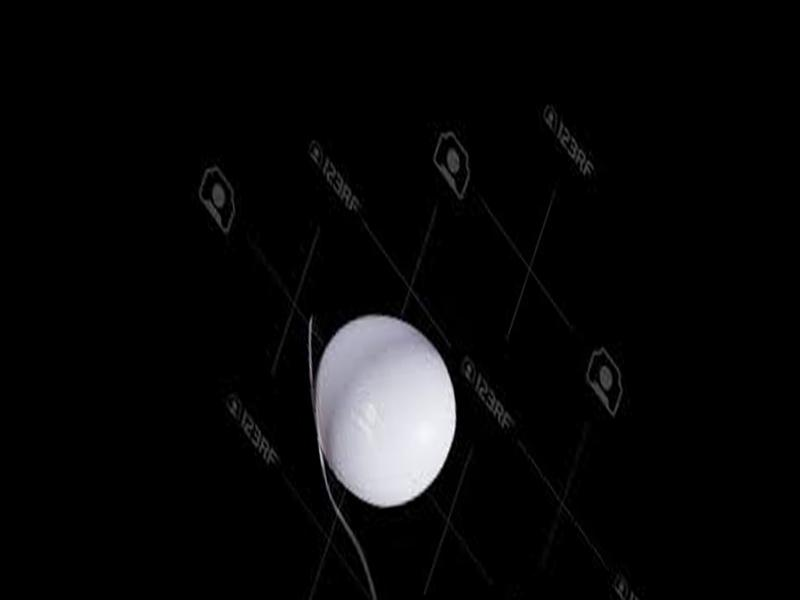Eggs: (301, 304, 467, 516)
